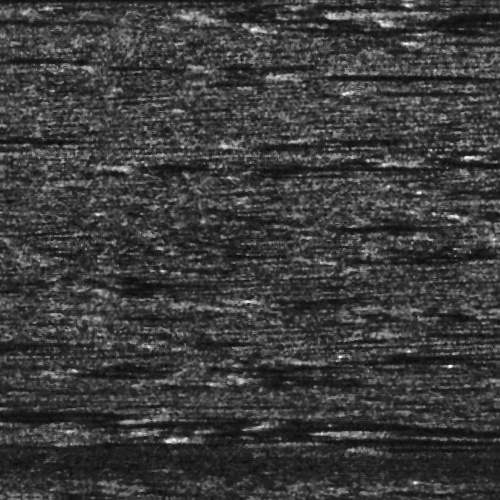object: (265, 430, 338, 447), (292, 425, 397, 434), (334, 442, 387, 447), (75, 441, 116, 446)
shadow: (0, 408, 362, 421), (302, 430, 497, 447), (345, 425, 493, 434), (361, 442, 460, 447), (96, 441, 186, 446), (0, 342, 85, 347)
